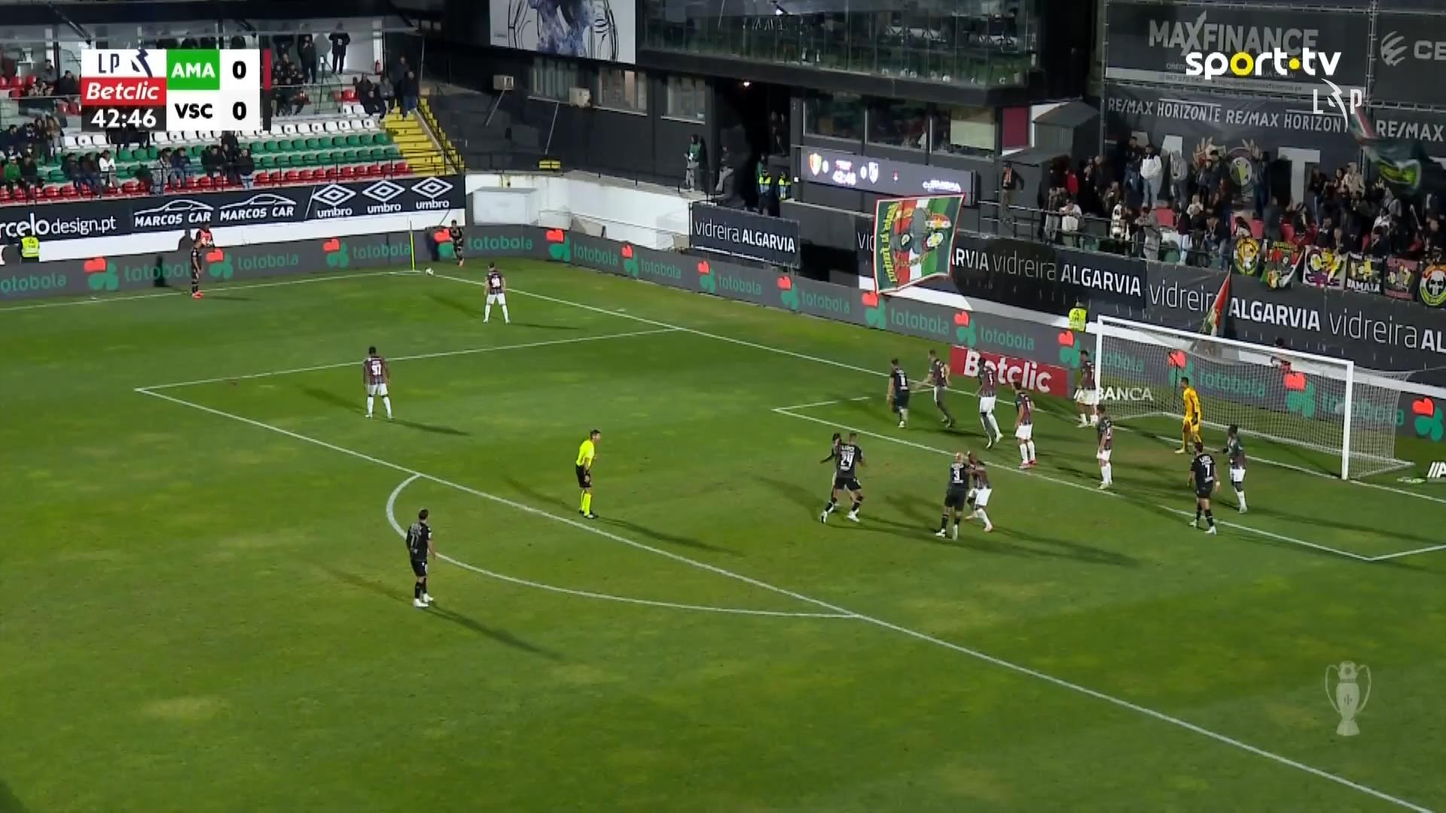ball: (1228, 156, 1251, 185), (898, 230, 914, 250), (425, 267, 433, 276)
goalkeeper: (1174, 374, 1201, 454)
player: (818, 430, 865, 523), (933, 451, 972, 540), (404, 507, 437, 607), (1186, 438, 1220, 534), (973, 358, 1003, 449), (922, 348, 955, 428), (1220, 422, 1248, 513), (963, 451, 993, 531), (1011, 380, 1037, 468), (362, 345, 392, 419), (1072, 353, 1098, 428), (188, 224, 214, 298), (481, 261, 510, 324), (885, 358, 911, 428), (1093, 403, 1114, 488), (447, 218, 465, 267)
referee: (573, 428, 601, 519)
